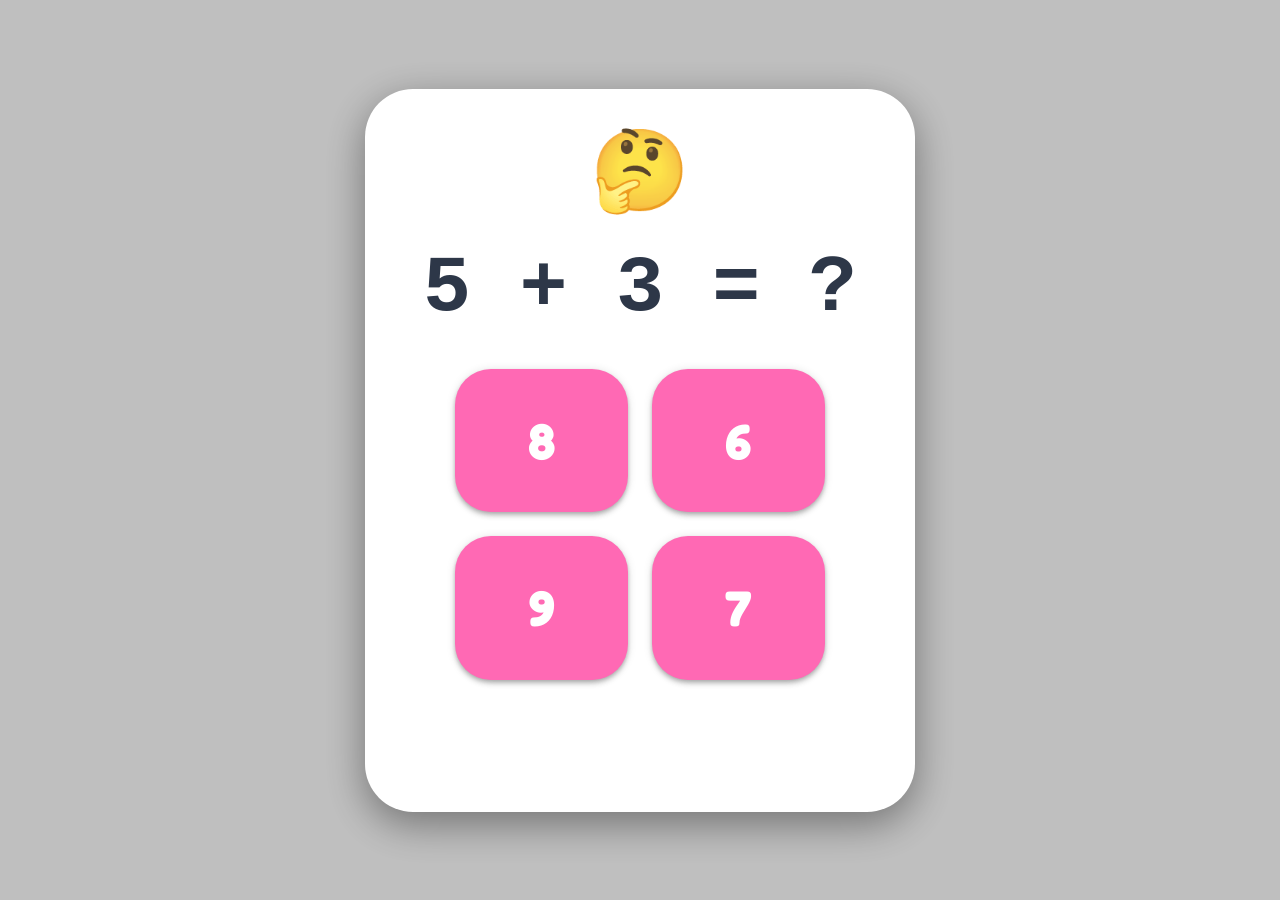
Scenario: MathModal › visual feedback › shows "Oops!" feedback for wrong answer
Click the button "6" at (738, 440), box [652,368,825,512]
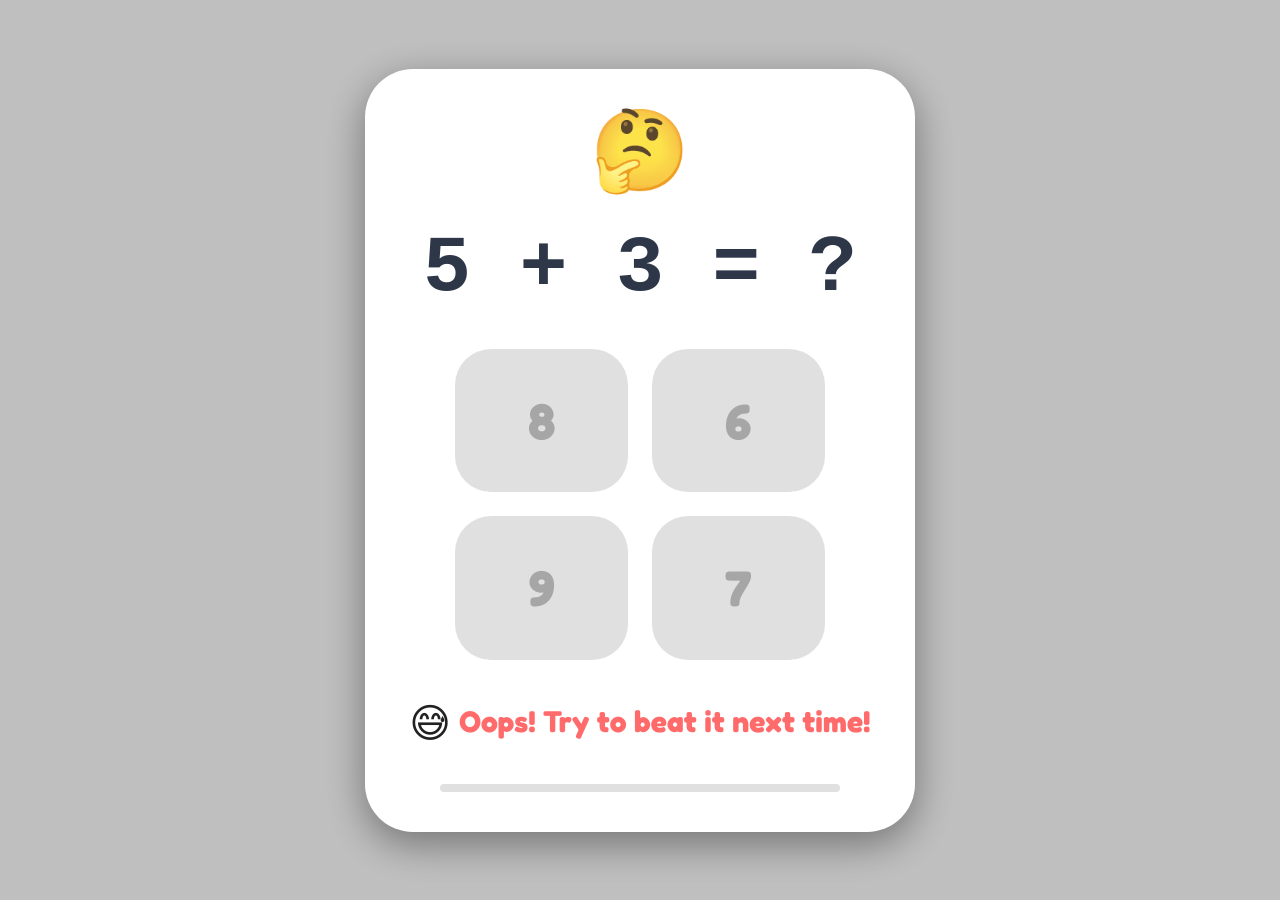
expect the element with test id "feedback-text" shows "Oops!": met, box [459,703,871,739]
